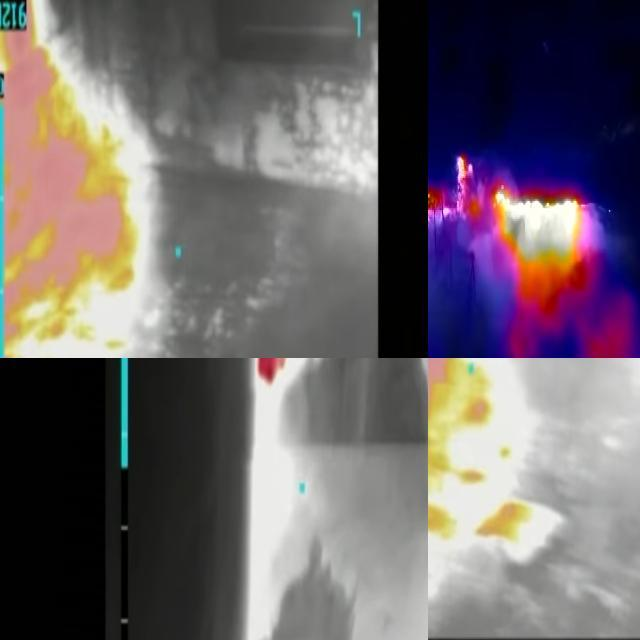fire: (1, 1, 135, 359), (429, 359, 494, 556), (489, 181, 586, 311)
